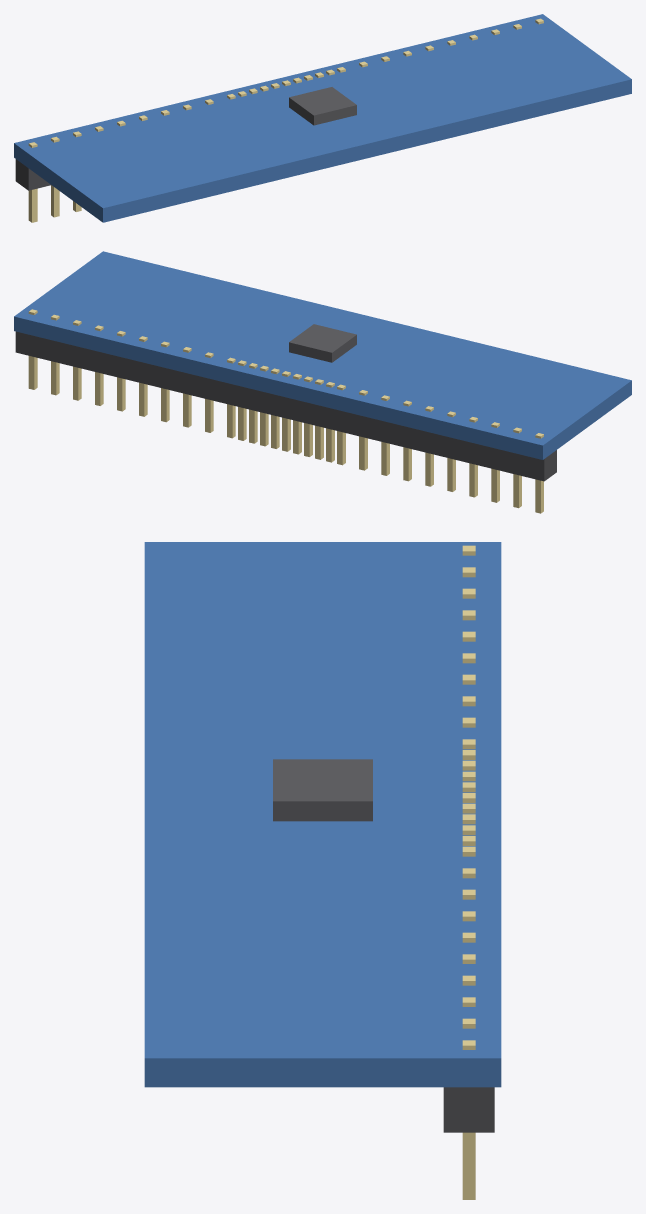
The model's file is teensy-4.1.glb.
3 views of the same model, one above another, from view 1: azimuth 30°, elevation 25°; view 2: azimuth 150°, elevation 25°; view 3: azimuth 270°, elevation 25° (orthographic). The views are drawn at different scales.
Parts seen in each view (by area): view 1: teensy-4.1-pcb, teensy-4.1-pins, teensy-4.1-ic, teensy-4.1-plastic; view 2: teensy-4.1-pcb, teensy-4.1-plastic, teensy-4.1-pins, teensy-4.1-ic; view 3: teensy-4.1-pcb, teensy-4.1-ic, teensy-4.1-pins, teensy-4.1-plastic.
Boxes of the visible parts, left/top/right/bottom form: teensy-4.1-pcb: left=14, top=14, right=631, bottom=222; teensy-4.1-pins: left=28, top=18, right=543, bottom=222; teensy-4.1-ic: left=289, top=87, right=356, bottom=125; teensy-4.1-plastic: left=15, top=159, right=51, bottom=190; teensy-4.1-pcb: left=14, top=251, right=631, bottom=459; teensy-4.1-plastic: left=15, top=331, right=556, bottom=481; teensy-4.1-pins: left=28, top=309, right=543, bottom=513; teensy-4.1-ic: left=289, top=324, right=356, bottom=362; teensy-4.1-pcb: left=144, top=542, right=501, bottom=1087; teensy-4.1-ic: left=273, top=759, right=372, bottom=821; teensy-4.1-pins: left=462, top=545, right=475, bottom=1199; teensy-4.1-plastic: left=443, top=1087, right=494, bottom=1132.
Size of the model in its own units: 0.061 by 0.00935 by 0.0178.
